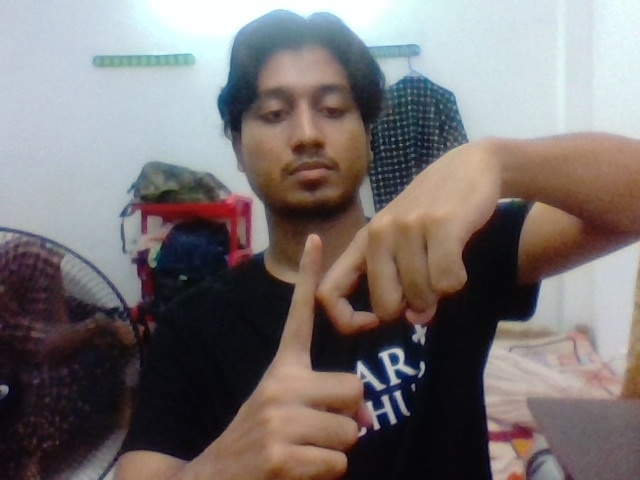K: (219, 200, 394, 471)
